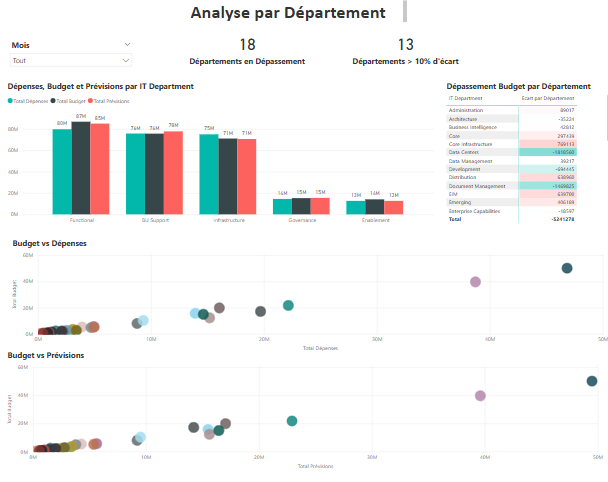

The page's visual inventory and layout, read from the dashboard file:
{"tool":"powerbi","page":{"name":"Département","canvas":[1280,1000],"ordinal":2},"visuals":[{"type":"card","fields":{"Values":["ActualForcastBudget.Départements en Dépassement"]},"box":[717.3,61.8,278.5,94.9],"z":0},{"type":"card","fields":{"Values":["ActualForcastBudget.Département en Dépassement"]},"box":[387.8,61.8,292.8,94.9],"z":1000},{"type":"textbox","box":[414.5,6.4,450,55.5],"z":2000},{"type":"clusteredColumnChart","title":"Dépenses, Budget et Prévisions par IT Department","fields":{"Category":["Departments.IT Area"],"Y":["ActualForcastBudget.Total Dépenses","ActualForcastBudget.Total Budget","ActualForcastBudget.Total Prévisions"]},"box":[42.1,175.5,877.6,300],"z":2001},{"type":"scatterChart","title":"Budget vs Prévisions","fields":{"X":["ActualForcastBudget.Total Prévisions"],"Category":["Departments.IT Department"],"Y":["ActualForcastBudget.Total Budget"]},"box":[42.3,721.4,1221.4,247.5],"z":2002},{"type":"slicer","fields":{"Values":["ActualForcastBudget.Date.Variation.Hiérarchie de dates.Mois"]},"box":[42.1,85.1,267.8,71.6],"z":2003},{"type":"pivotTable","title":"Dépassement Budget par Département","fields":{"Rows":["Departments.IT Department"],"Values":["ActualForcastBudget.Taux d'Ecart par Département"]},"box":[934.9,175.5,344.8,293.7],"z":2004},{"type":"scatterChart","title":"Budget vs Dépenses","fields":{"Y":["ActualForcastBudget.Total Budget"],"X":["ActualForcastBudget.Total Dépenses"],"Category":["Departments.IT Department"]},"box":[53,493.6,1221.5,236.4],"z":2005}]}

Visuals, with their boxes in screenshot pixels (x1, y1, x2, y2), scaled from the page's 1280x1000 canvas onto the 608x482 screenshot:
card - ActualForcastBudget.Départements en Dépassement: x1=341, y1=30, x2=473, y2=76
card - ActualForcastBudget.Département en Dépassement: x1=184, y1=30, x2=323, y2=76
textbox: x1=197, y1=3, x2=411, y2=30
"Dépenses, Budget et Prévisions par IT Department" clusteredColumnChart: x1=20, y1=85, x2=437, y2=229
"Budget vs Prévisions" scatterChart: x1=20, y1=348, x2=600, y2=467
slicer - ActualForcastBudget.Date.Variation.Hiérarchie de dates.Mois: x1=20, y1=41, x2=147, y2=76
"Dépassement Budget par Département" pivotTable: x1=444, y1=85, x2=607, y2=226
"Budget vs Dépenses" scatterChart: x1=25, y1=238, x2=605, y2=352
